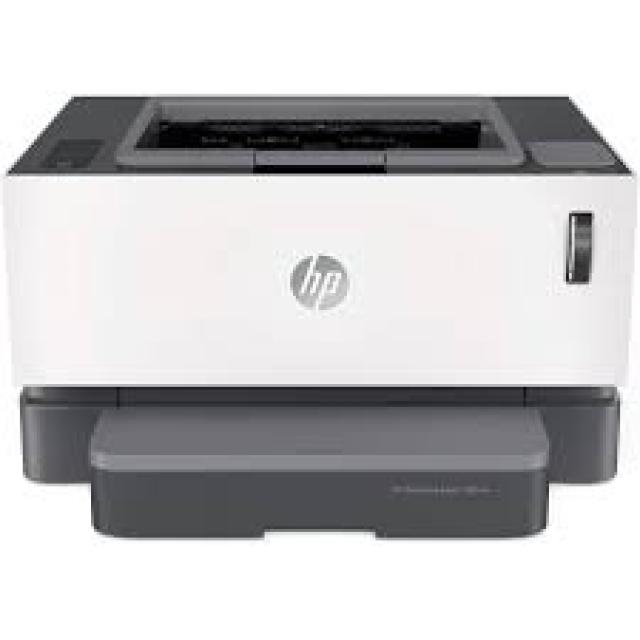printer: (0, 90, 634, 540)
